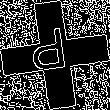P_S: (33, 27, 77, 83)
